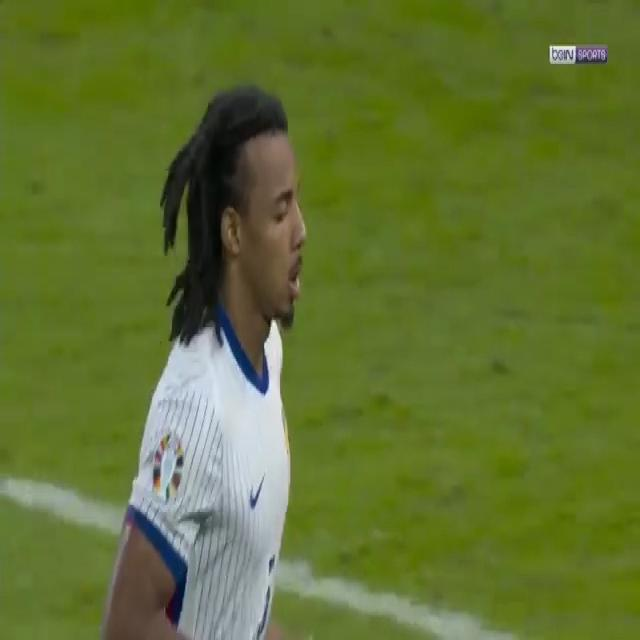joueur: (93, 104, 333, 631)
